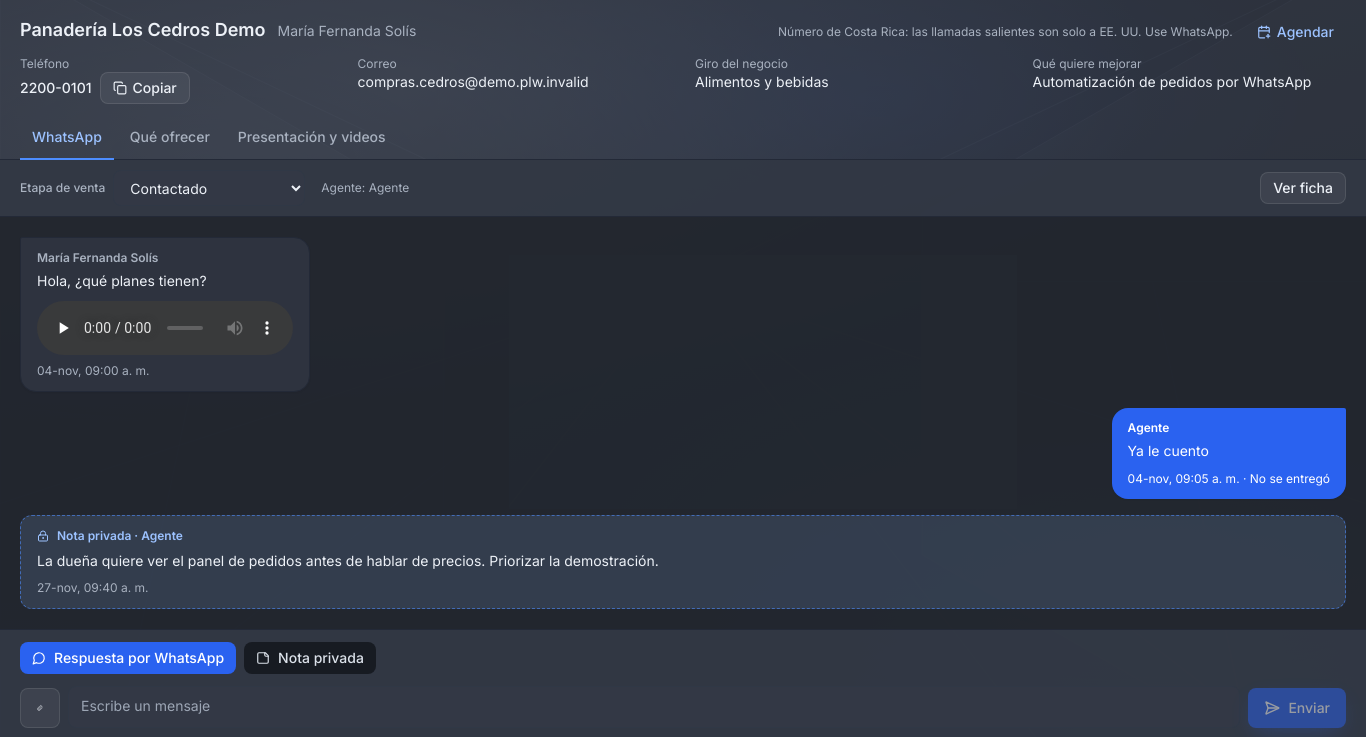
the chat reads like WhatsApp: the reply tab is pinned and a sent message glides into view
Expected: the text "Hola, ¿qué planes tienen?" is shown, x1=37 y1=272 x2=207 y2=289
Expected: the tab "Nota privada" is shown, x1=244 y1=642 x2=376 y2=674
Type "Le escribo en un momento" into the text box named "Mensaje de WhatsApp" at (654, 707), box x1=68 y1=686 x2=1240 y2=728
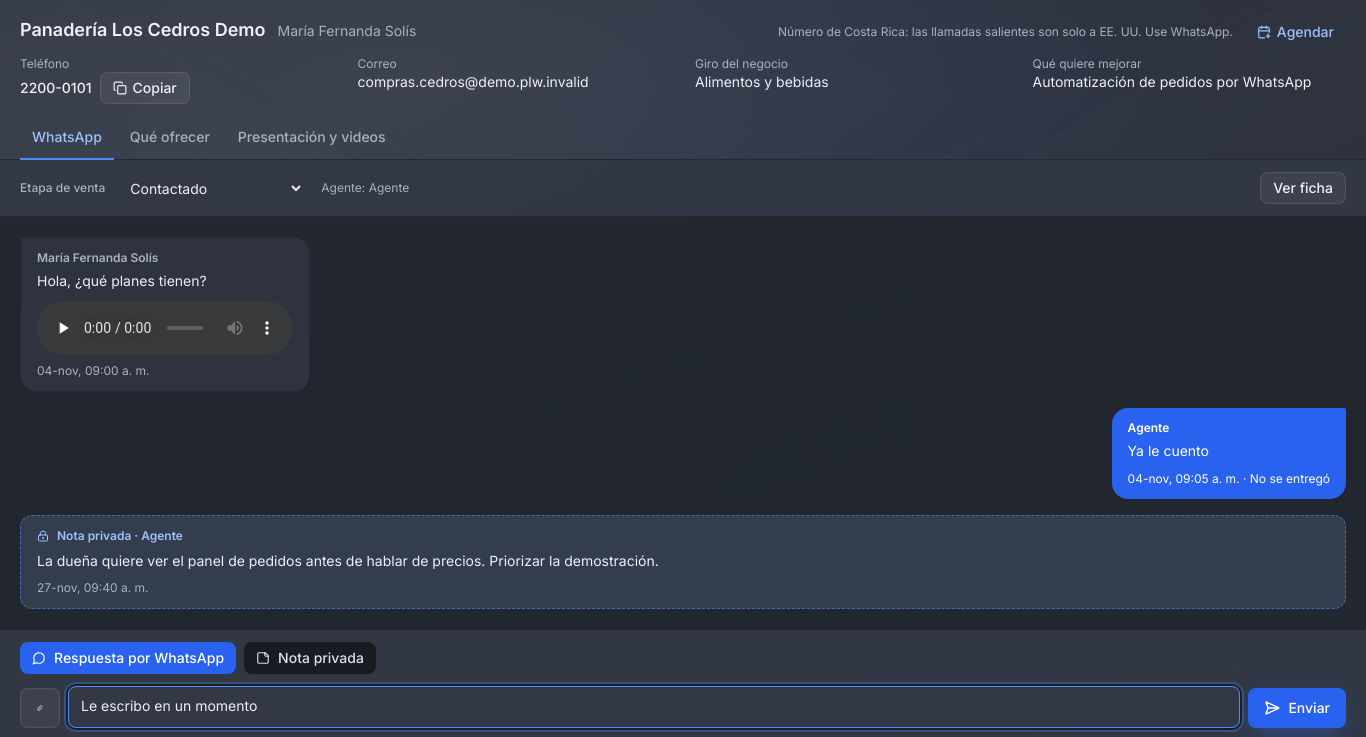
Click the button with aria-label "Enviar por WhatsApp" at (1297, 708), box x1=1248 y1=688 x2=1346 y2=728
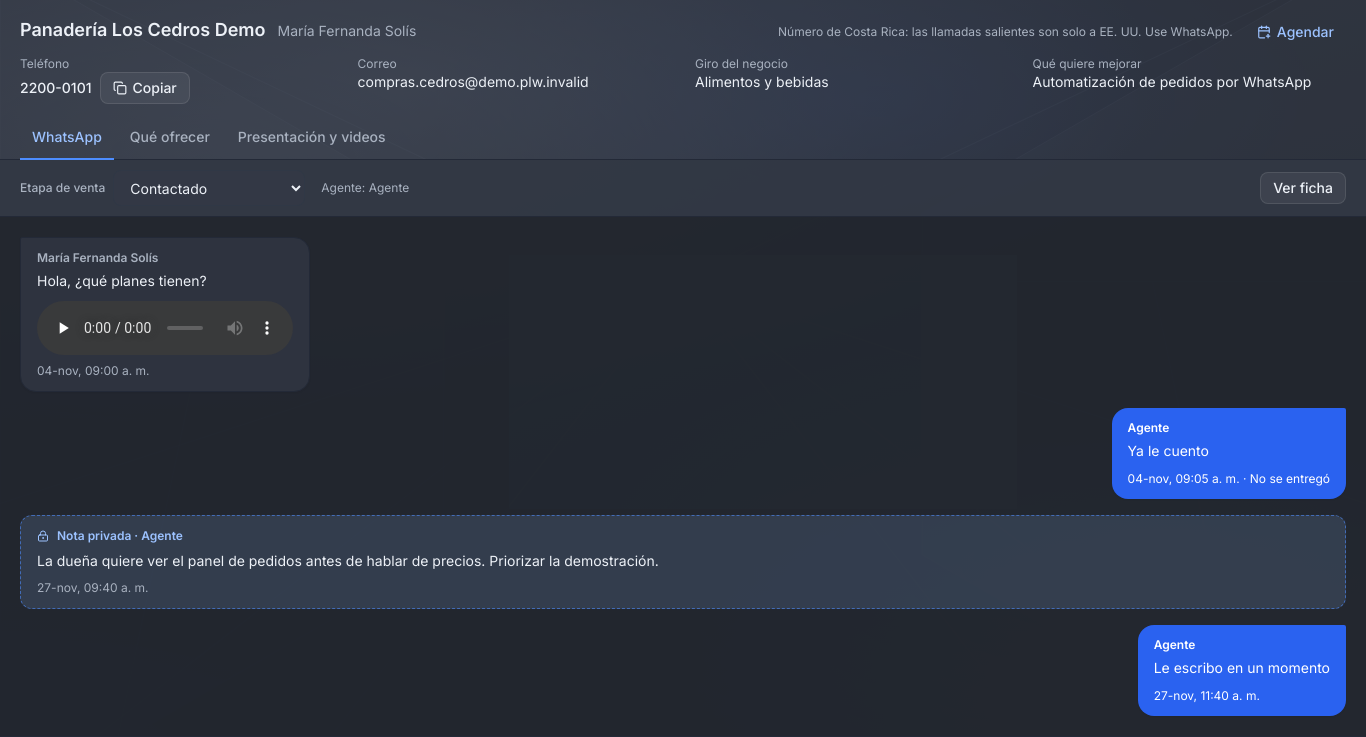
Expected: the text "Le escribo en un momento" is shown, x1=1154 y1=657 x2=1330 y2=680
